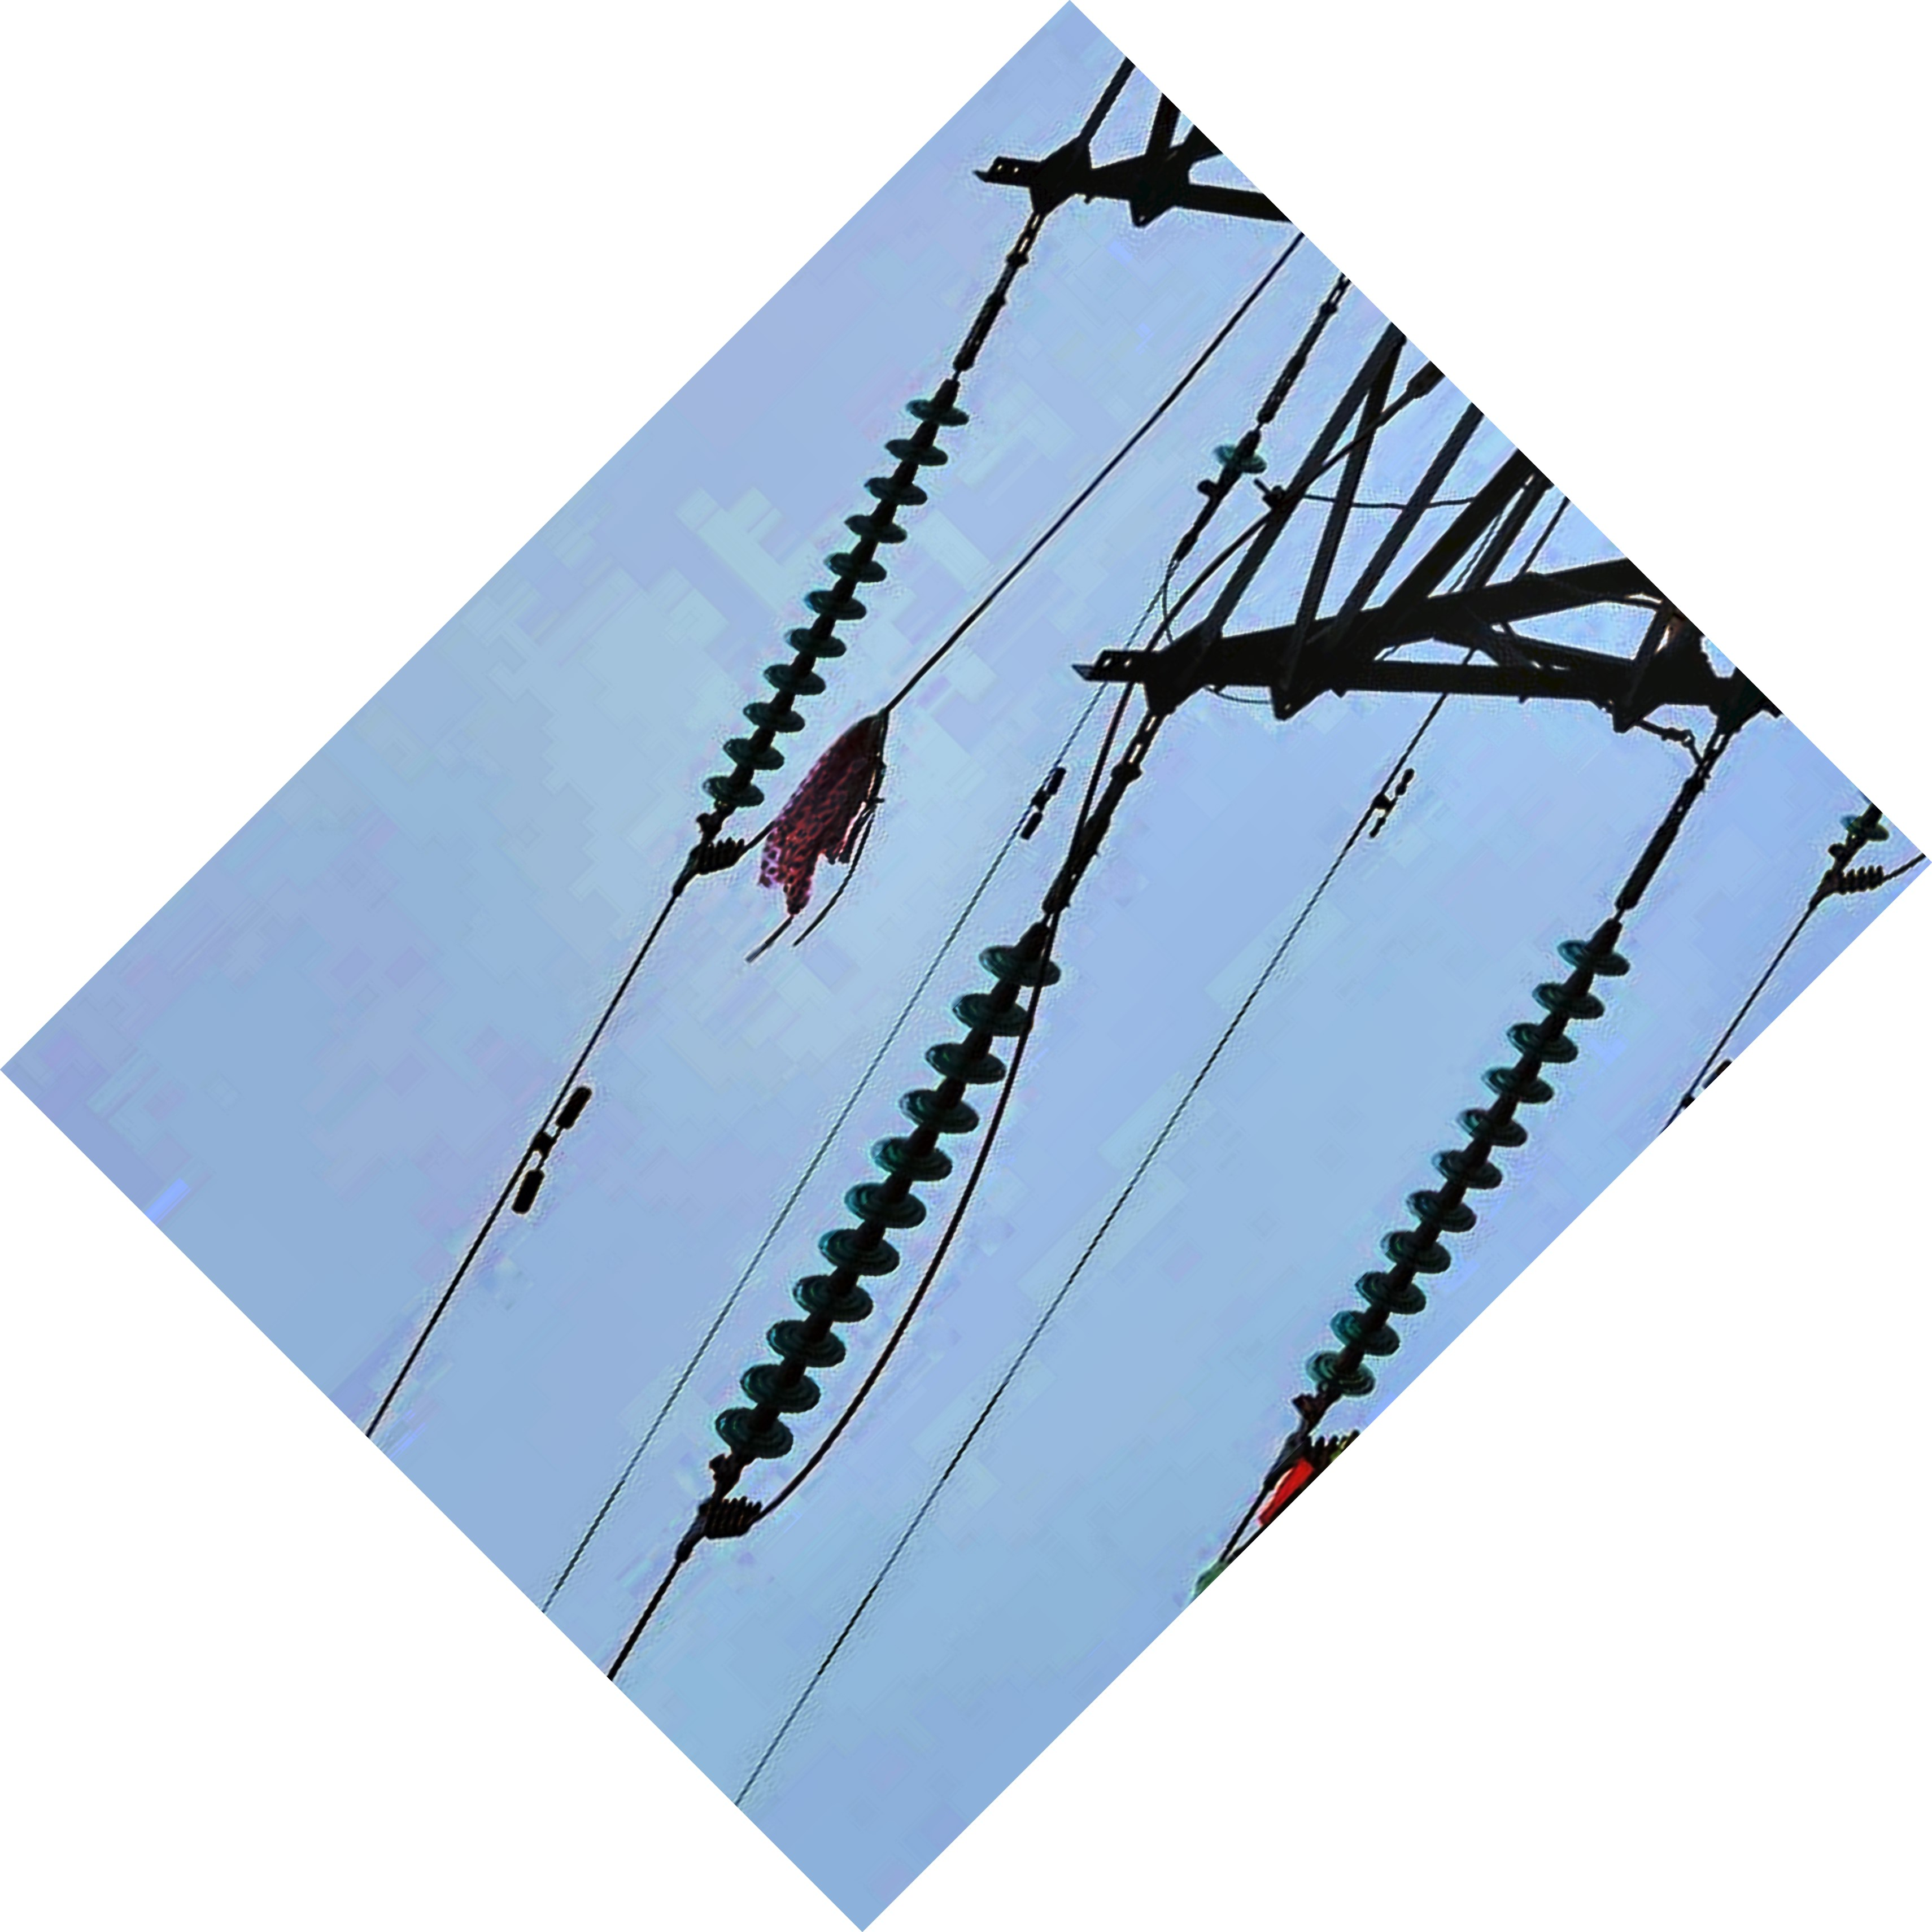wire foreign body: (711, 690, 945, 948)
